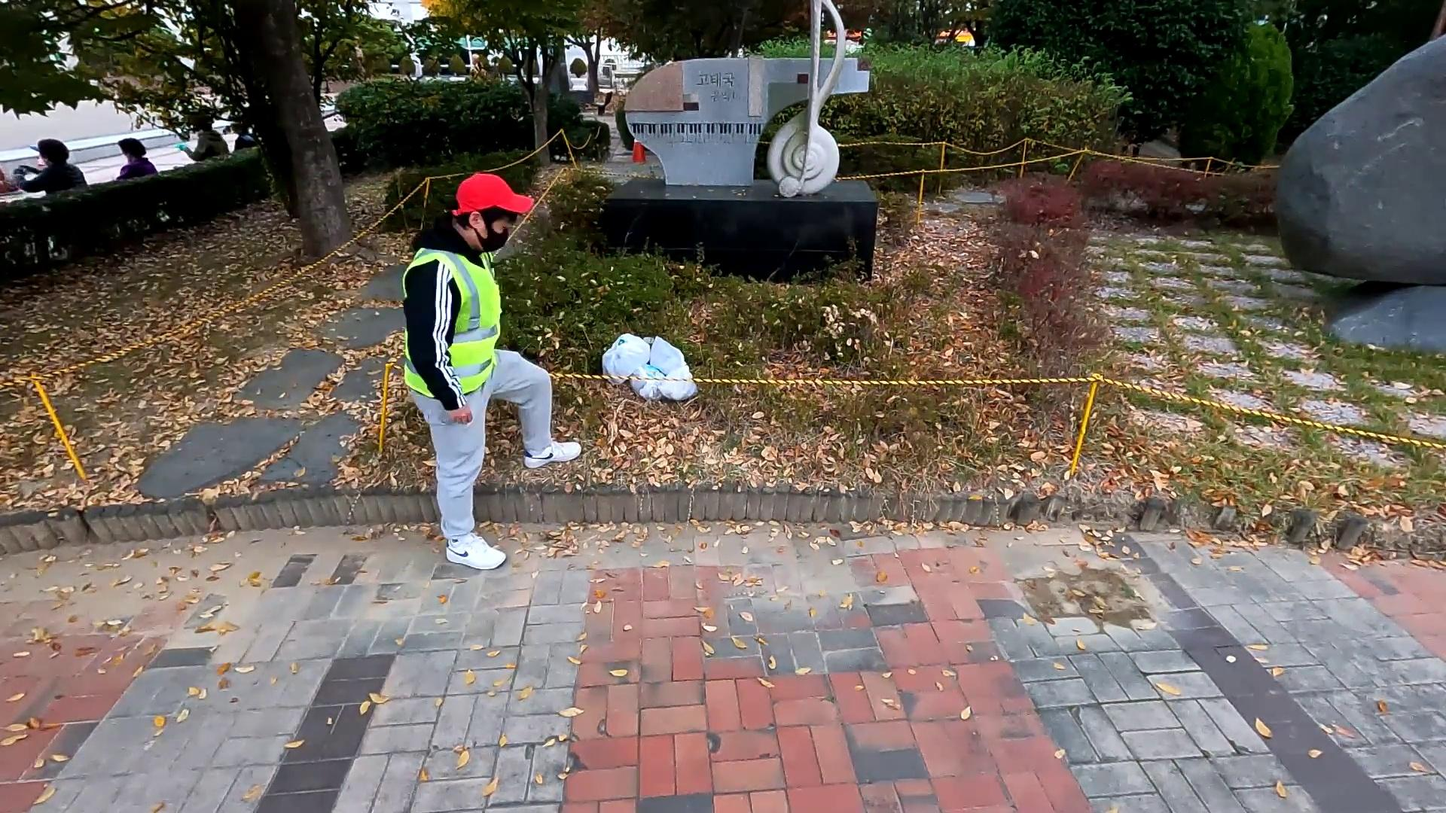person: (403, 172, 582, 569)
trash: (600, 332, 649, 382), (650, 333, 685, 375), (661, 365, 700, 400), (628, 365, 663, 398)
